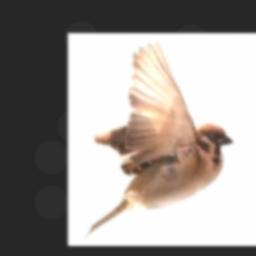Sparrow: (83, 39, 233, 239)
